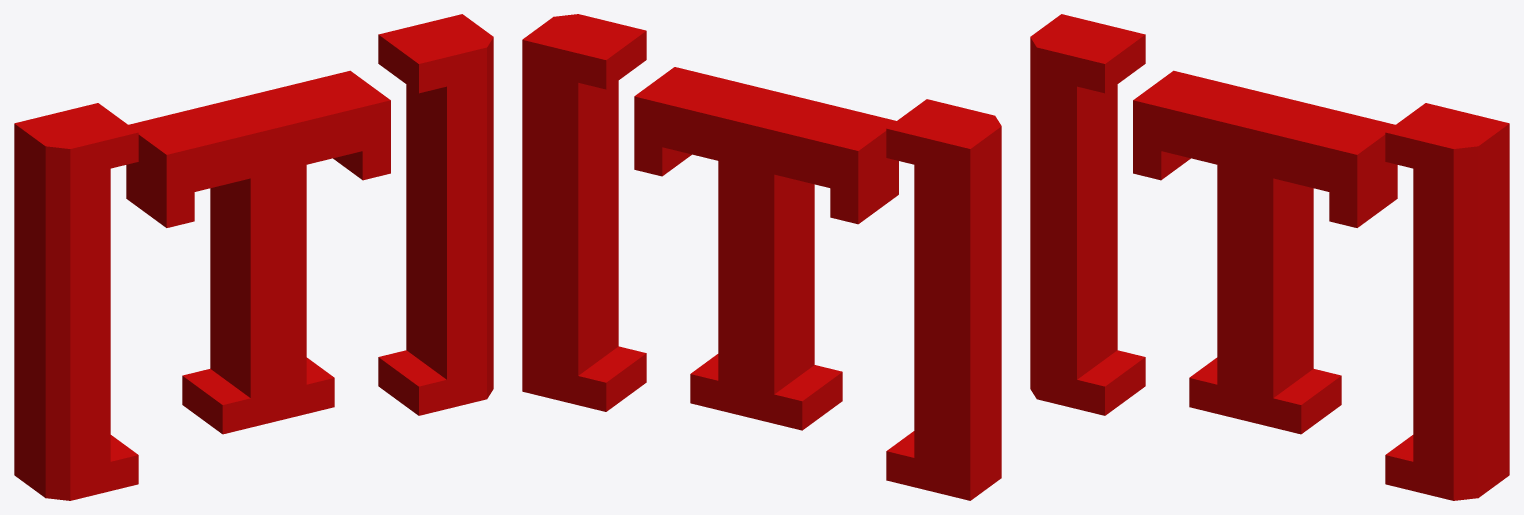
The picture shows the model from 3 angles, left to right: view 1: azimuth 30°, elevation 25°; view 2: azimuth 150°, elevation 25°; view 3: azimuth 330°, elevation 25°; orthographic projection.
Parts seen in each view (by area): view 1: Mesh_Mesh_head_geo.001_lambert2SG.001; view 2: Mesh_Mesh_head_geo.001_lambert2SG.001; view 3: Mesh_Mesh_head_geo.001_lambert2SG.001.
Boxes of the visible parts, bbox=[...] form: Mesh_Mesh_head_geo.001_lambert2SG.001: bbox=[14, 14, 493, 500]; Mesh_Mesh_head_geo.001_lambert2SG.001: bbox=[522, 14, 1001, 500]; Mesh_Mesh_head_geo.001_lambert2SG.001: bbox=[1030, 14, 1509, 500].
Bounding box in the file's own units: 26.67 × 20 × 4.17.
